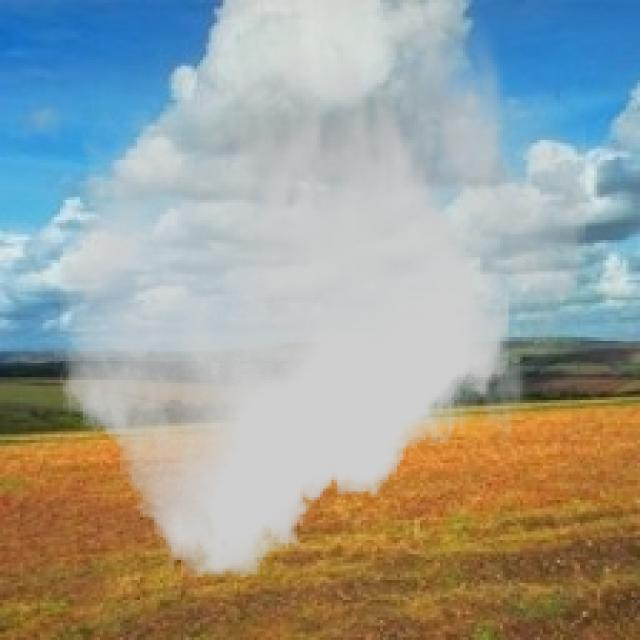smoke: (54, 12, 586, 577)
